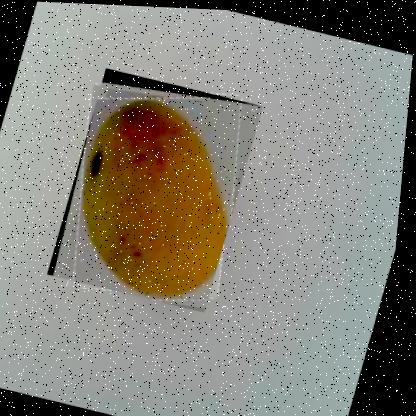mango: (48, 65, 267, 312)
